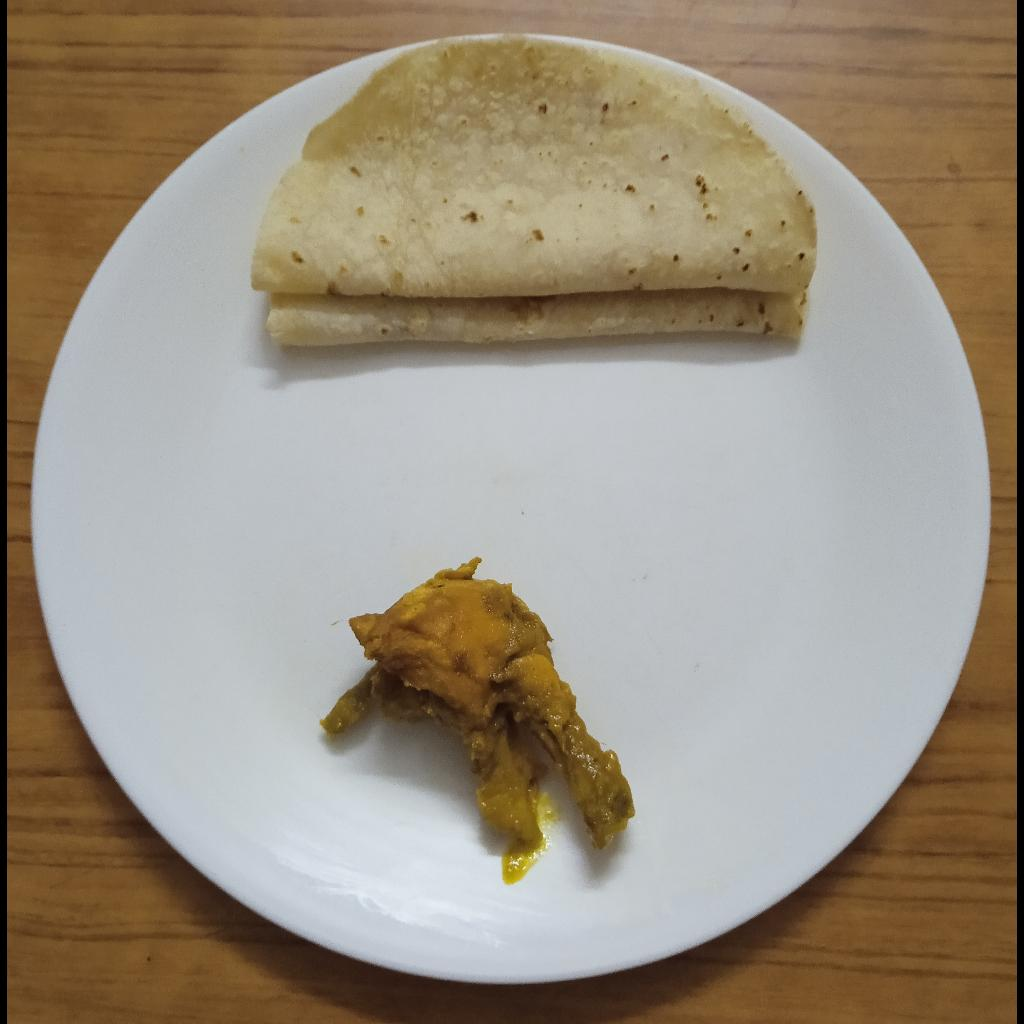chicken: (324, 554, 637, 854)
ruti: (252, 34, 819, 348)
